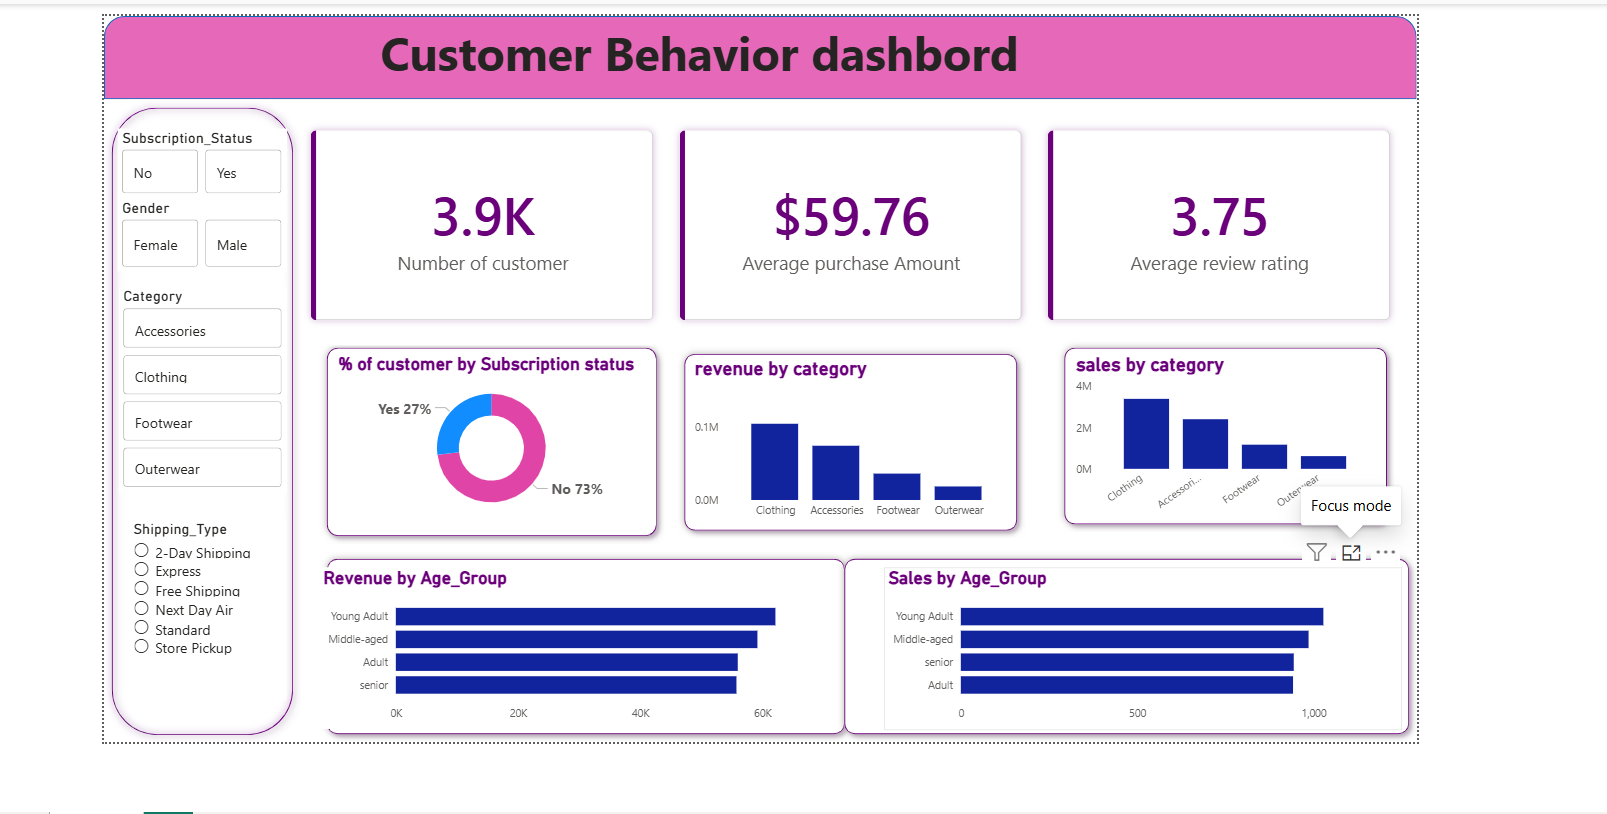

The page's visual inventory and layout, read from the dashboard file:
{"tool":"powerbi","page":{"name":"Page 1","canvas":[1500,830],"ordinal":0},"visuals":[{"type":"shape","box":[0,0,1500,95],"z":0},{"type":"textbox","box":[28,95,150,281],"z":1000},{"type":"textbox","box":[0,0,1357.5,95],"z":2000},{"type":"shape","box":[245,370,395,233.3],"z":3000},{"type":"cardVisual","fields":{"Data":["public customer.Number of customer","public customer.Average purchase Amount","public customer.Average review rating"]},"box":[208.3,103.3,1291.7,273.3],"z":4000},{"type":"donutChart","title":"% of customer by Subscription status","fields":{"Category":["public customer.subscription_status"],"Y":["CountNonNull(public customer.customer_id)"]},"box":[263.3,385,360,193.3],"z":5000},{"type":"shape","box":[1088.3,370,386.7,220],"z":6000},{"type":"shape","box":[245,611.7,610,218.3],"z":7000},{"type":"clusteredColumnChart","title":"revenue by category","fields":{"Y":["Sum(public customer.purchase_amount)"],"Category":["public customer.category"]},"box":[670,390,368.3,193.3],"z":8000},{"type":"clusteredColumnChart","title":"sales by category","fields":{"Y":["Sum(public customer.customer_id)"],"Category":["public customer.category"]},"box":[1105,385,348.3,190],"z":9000},{"type":"shape","box":[0,95,225,735],"z":10000},{"type":"advancedSlicerVisual","fields":{"Values":["public customer.subscription_status"]},"box":[15,128.3,193.3,80],"z":11000},{"type":"advancedSlicerVisual","fields":{"Values":["public customer.gender"]},"box":[15,208.3,193.3,83.3],"z":12000},{"type":"advancedSlicerVisual","fields":{"Values":["public customer.category"]},"box":[16.7,310,191.7,235],"z":13000},{"type":"listSlicer","fields":{"Values":["public customer.shipping_type"]},"box":[28.3,575,180,206.7],"z":14000},{"type":"clusteredBarChart","title":"Revenue by Age_Group","fields":{"Y":["Sum(public customer.purchase_amount)"],"Category":["public customer.age_group"]},"box":[245,630,591.7,185],"z":15000},{"type":"shape","box":[655,376.7,398.3,220],"z":16000},{"type":"shape","box":[836.7,611.7,663.3,218.3],"z":16001},{"type":"clusteredBarChart","title":"Sales by Age_Group","fields":{"Y":["CountNonNull(public customer.customer_id)"],"Category":["public customer.age_group"]},"box":[891.7,630,591.7,185],"z":16002},{"type":"clusteredColumnChart","title":"revenue by category","fields":{"Y":["Sum(public customer.purchase_amount)"],"Category":["public customer.category"]},"box":[670,390,368.3,193.3],"z":16003}]}

Visuals, with their boxes on the page's 1500x830 design canvas (x1, y1, x2, y2). These are canvas units, not pixel positions in the 1607x814 screenshot, which may show the page scaled, cropped or inside an application window:
shape: {"x1": 0, "y1": 0, "x2": 1500, "y2": 95}
textbox: {"x1": 28, "y1": 95, "x2": 178, "y2": 376}
textbox: {"x1": 0, "y1": 0, "x2": 1358, "y2": 95}
shape: {"x1": 245, "y1": 370, "x2": 640, "y2": 603}
cardVisual - public customer.Number of customer x public customer.Average purchase Amount: {"x1": 208, "y1": 103, "x2": 1500, "y2": 377}
"% of customer by Subscription status" donutChart: {"x1": 263, "y1": 385, "x2": 623, "y2": 578}
shape: {"x1": 1088, "y1": 370, "x2": 1475, "y2": 590}
shape: {"x1": 245, "y1": 612, "x2": 855, "y2": 830}
"revenue by category" clusteredColumnChart: {"x1": 670, "y1": 390, "x2": 1038, "y2": 583}
"sales by category" clusteredColumnChart: {"x1": 1105, "y1": 385, "x2": 1453, "y2": 575}
shape: {"x1": 0, "y1": 95, "x2": 225, "y2": 830}
advancedSlicerVisual - public customer.subscription_status: {"x1": 15, "y1": 128, "x2": 208, "y2": 208}
advancedSlicerVisual - public customer.gender: {"x1": 15, "y1": 208, "x2": 208, "y2": 292}
advancedSlicerVisual - public customer.category: {"x1": 17, "y1": 310, "x2": 208, "y2": 545}
listSlicer - public customer.shipping_type: {"x1": 28, "y1": 575, "x2": 208, "y2": 782}
"Revenue by Age_Group" clusteredBarChart: {"x1": 245, "y1": 630, "x2": 837, "y2": 815}
shape: {"x1": 655, "y1": 377, "x2": 1053, "y2": 597}
shape: {"x1": 837, "y1": 612, "x2": 1500, "y2": 830}
"Sales by Age_Group" clusteredBarChart: {"x1": 892, "y1": 630, "x2": 1483, "y2": 815}
"revenue by category" clusteredColumnChart: {"x1": 670, "y1": 390, "x2": 1038, "y2": 583}
